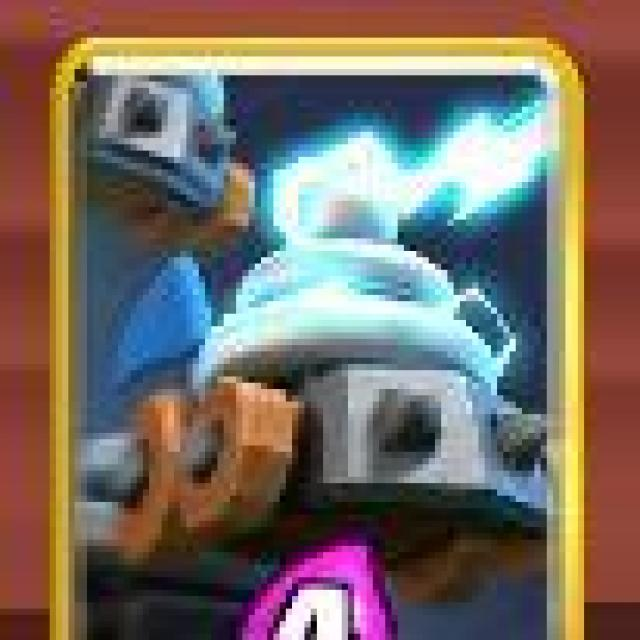Zappies: (51, 36, 584, 637)
